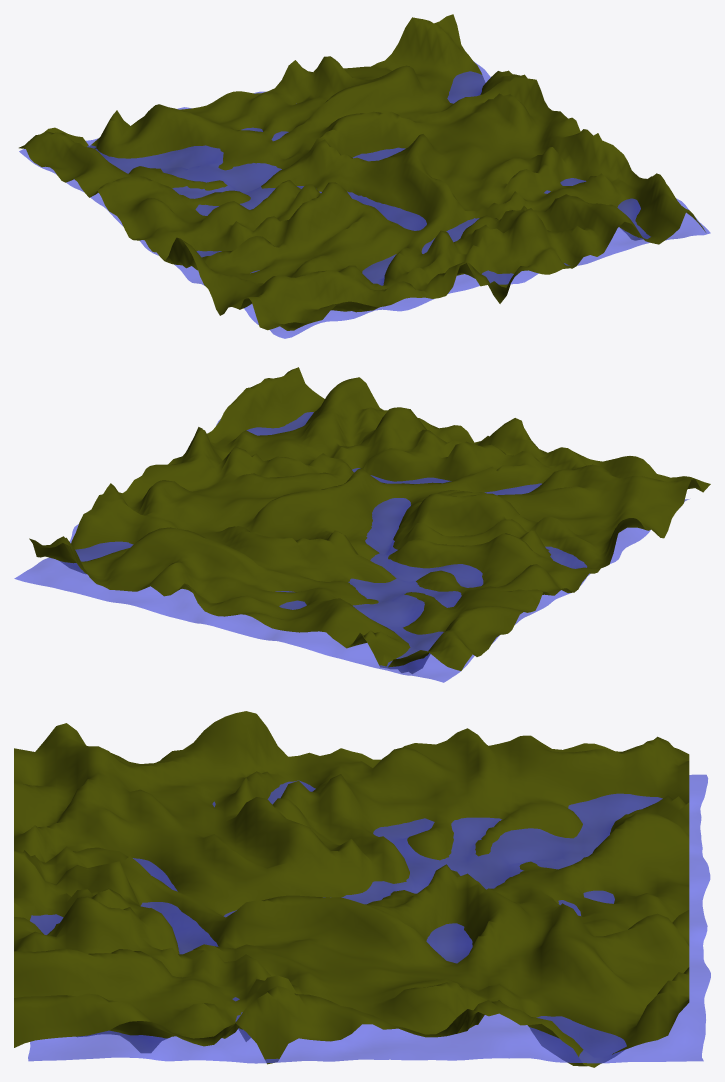
The model's file is mapExample.gltf.
3 views of the same model, one above another, from view 1: azimuth 30°, elevation 25°; view 2: azimuth 150°, elevation 25°; view 3: azimuth 270°, elevation 25° (orthographic). The views are drawn at different scales.
Visible parts, largest first — view 1: Plane; view 2: Plane; view 3: Plane.
Boxes of the visible parts, left/top/right/bottom form: Plane: left=19, top=14, right=710, bottom=338; Plane: left=14, top=367, right=710, bottom=682; Plane: left=14, top=711, right=710, bottom=1067.
Bounding box in the file's own units: 200 × 28.84 × 199.
